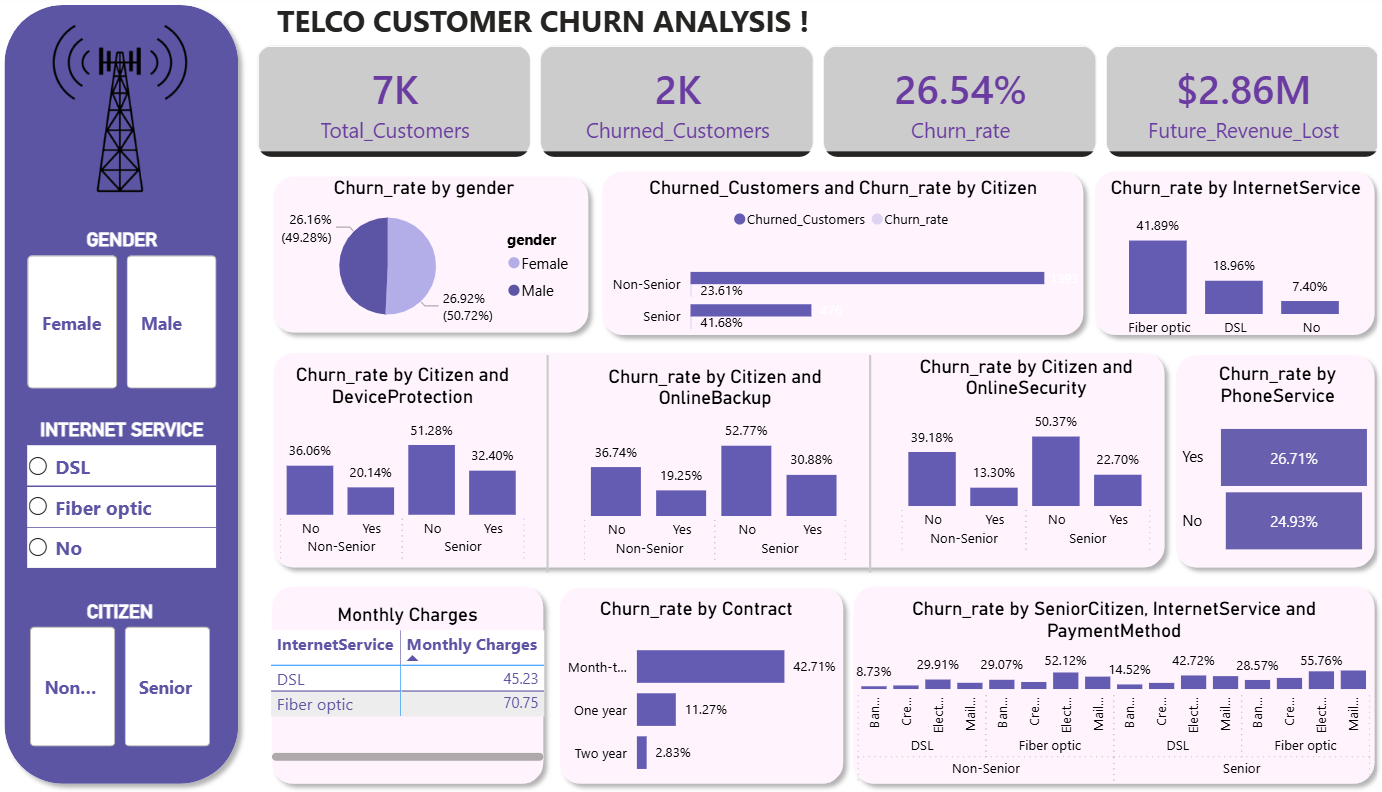

What the dashboard file says about the page in this screenshot:
{"tool":"powerbi","page":{"name":"Page 1","canvas":[1280,720],"ordinal":0},"visuals":[{"type":"cardVisual","fields":{"Data":["telco_cleaned.Total_Customers","telco_cleaned.Churned_Customers","telco_cleaned.Churn_rate","telco_cleaned.Revenue_Lost"]},"box":[231.1,28.2,1049.3,135.3],"z":0},{"type":"shape","box":[11.6,11.6,227.9,698.8],"z":1000},{"type":"shape","box":[555.7,149.9,446.3,165.7],"z":2000},{"type":"textbox","box":[253.5,0,576.7,134.9],"z":3000},{"type":"shape","box":[1002,149.9,264.9,165.7],"z":4000},{"type":"shape","box":[253.6,154.4,302.1,158.9],"z":5000},{"type":"pieChart","fields":{"Category":["telco_cleaned.gender"],"Y":["telco_cleaned.Churn_rate"]},"box":[253.7,162.9,289.8,143.2],"z":6000},{"type":"clusteredBarChart","title":"Churned_Customers and Churn_rate by Citizen","fields":{"Y":["telco_cleaned.Churned_Customers","telco_cleaned.Churn_rate"],"Category":["telco_cleaned.SeniorCitizen"]},"box":[561,157.1,435.3,169.9],"z":7000},{"type":"columnChart","fields":{"Y":["telco_cleaned.Churn_rate"],"Category":["telco_cleaned.InternetService"]},"box":[1014.9,157.1,244.4,153.6],"z":8000},{"type":"shape","box":[253.6,313.3,813.8,211.9],"z":9000},{"type":"clusteredColumnChart","title":"Churn_rate by Citizen and DeviceProtection","fields":{"Y":["telco_cleaned.Churn_rate"],"Category":["telco_cleaned.SeniorCitizen","telco_cleaned.DeviceProtection"]},"box":[247.9,332.8,262.3,187.4],"z":9000,"group":"g1"},{"type":"clusteredColumnChart","title":"Churn_rate by Citizen and OnlineBackup","fields":{"Y":["telco_cleaned.Churn_rate"],"Category":["telco_cleaned.SeniorCitizen","telco_cleaned.OnlineBackup"]},"box":[520.4,333.2,280.5,187.4],"z":10000,"group":"g1"},{"type":"shape","box":[515.1,525.2,261.5,195],"z":10000},{"type":"shape","box":[1067.4,315.6,204,209.6],"z":11000},{"type":"clusteredColumnChart","title":"Churn_rate by Citizen and OnlineSecurity","fields":{"Y":["telco_cleaned.Churn_rate"],"Category":["telco_cleaned.SeniorCitizen","telco_cleaned.OnlineSecurity"]},"box":[808.6,324.7,266.8,187.4],"z":11000,"group":"g1"},{"type":"group","id":"g1","title":"Group 1","box":[247.9,324.7,827.5,195.9],"z":12000},{"type":"shape","box":[775.5,524.1,491.4,196.1],"z":13000},{"type":"funnel","fields":{"Category":["telco_cleaned.PhoneService"],"Y":["telco_cleaned.Churn_rate"]},"box":[1077.5,324.6,187.1,189.4],"z":14000},{"type":"clusteredBarChart","fields":{"Y":["telco_cleaned.Churn_rate"],"Category":["telco_cleaned.Contract"]},"box":[511.7,543.3,264.9,177],"z":15000},{"type":"columnChart","fields":{"Category":["telco_cleaned.SeniorCitizen","telco_cleaned.InternetService","telco_cleaned.PaymentMethod"],"Y":["telco_cleaned.Churn_rate"]},"box":[776.7,543,488.4,176.7],"z":16000},{"type":"shape","box":[389.9,315.4,239.8,204.8],"z":17000},{"type":"shape","box":[680.9,315.4,239.8,204.8],"z":18000},{"type":"advancedSlicerVisual","title":"GENDER","fields":{"Values":["telco_cleaned.gender"]},"box":[36,210.5,180.2,150],"z":19000},{"type":"listSlicer","title":"INTERNET SERVICE","fields":{"Values":["telco_cleaned.InternetService"]},"box":[36,382.6,180.2,327.9],"z":20000},{"type":"shape","box":[252.5,524.1,262.6,196.1],"z":20500},{"type":"advancedSlicerVisual","title":"CITIZEN","fields":{"Values":["telco_cleaned.SeniorCitizen"]},"box":[38.4,545.4,172.1,137.2],"z":21000},{"type":"image","box":[0,25.6,248.8,159.3],"z":22000},{"type":"pivotTable","title":"Monthly Charges","fields":{"Rows":["telco_cleaned.InternetService"],"Values":["Median(telco_cleaned.MonthlyCharges)"]},"box":[255.9,548.9,255.9,147.7],"z":24000}]}

Visuals, with their boxes in screenshot pixels (x1, y1, x2, y2), scaled from the page's 1280x720 canvas onto the 1382x792 screenshot:
cardVisual - telco_cleaned.Total_Customers x telco_cleaned.Churned_Customers: crop(250, 31, 1381, 180)
shape: crop(13, 13, 259, 781)
shape: crop(600, 165, 1082, 347)
textbox: crop(274, 0, 896, 148)
shape: crop(1082, 165, 1368, 347)
shape: crop(274, 170, 600, 345)
pieChart - telco_cleaned.gender x telco_cleaned.Churn_rate: crop(274, 179, 587, 337)
"Churned_Customers and Churn_rate by Citizen" clusteredBarChart: crop(606, 173, 1076, 360)
columnChart - telco_cleaned.Churn_rate x telco_cleaned.InternetService: crop(1096, 173, 1360, 342)
shape: crop(274, 345, 1152, 578)
"Churn_rate by Citizen and DeviceProtection" clusteredColumnChart: crop(268, 366, 551, 572)
"Churn_rate by Citizen and OnlineBackup" clusteredColumnChart: crop(562, 367, 865, 573)
shape: crop(556, 578, 838, 791)
shape: crop(1152, 347, 1373, 578)
"Churn_rate by Citizen and OnlineSecurity" clusteredColumnChart: crop(873, 357, 1161, 563)
"Group 1" group: crop(268, 357, 1161, 573)
shape: crop(837, 577, 1368, 791)
funnel - telco_cleaned.PhoneService x telco_cleaned.Churn_rate: crop(1163, 357, 1365, 565)
clusteredBarChart - telco_cleaned.Churn_rate x telco_cleaned.Contract: crop(552, 598, 838, 791)
columnChart - telco_cleaned.SeniorCitizen x telco_cleaned.InternetService: crop(839, 597, 1366, 791)
shape: crop(421, 347, 680, 572)
shape: crop(735, 347, 994, 572)
"GENDER" advancedSlicerVisual: crop(39, 232, 233, 397)
"INTERNET SERVICE" listSlicer: crop(39, 421, 233, 782)
shape: crop(273, 577, 556, 791)
"CITIZEN" advancedSlicerVisual: crop(41, 600, 227, 751)
image: crop(0, 28, 269, 203)
"Monthly Charges" pivotTable: crop(276, 604, 553, 766)
